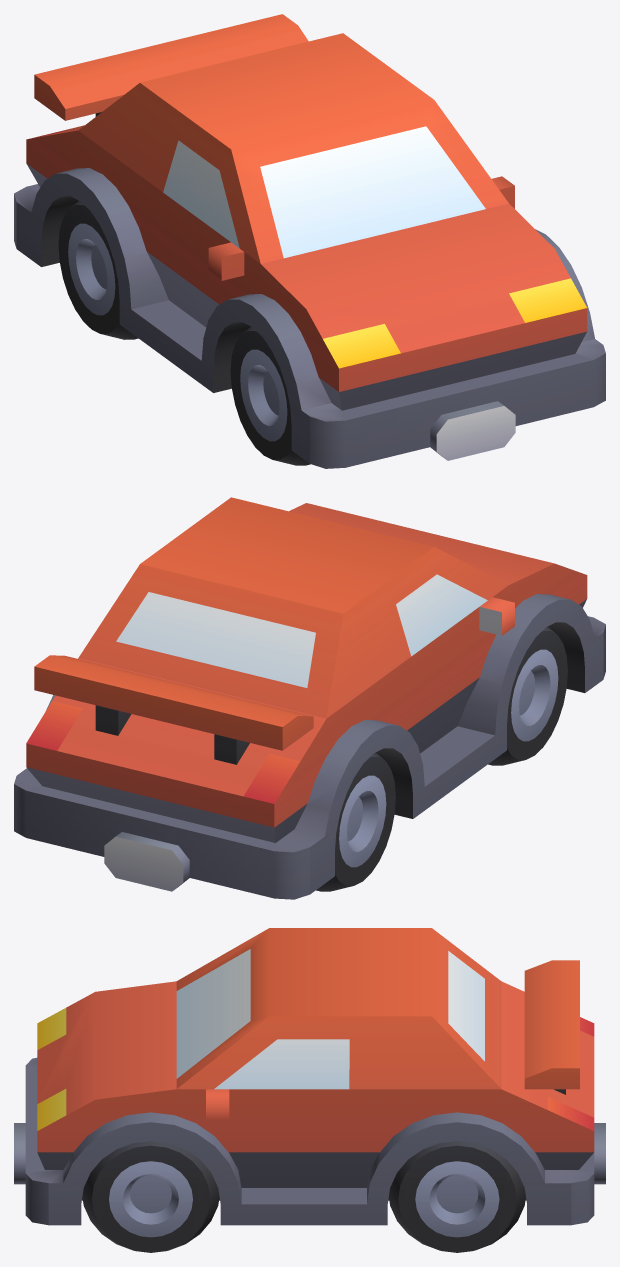
The model's file is kenney-car-sedan-sports.glb.
3 views of the same model, one above another, from view 1: azimuth 30°, elevation 25°; view 2: azimuth 150°, elevation 25°; view 3: azimuth 270°, elevation 25° (orthographic). The views are drawn at different scales.
Parts seen in each view (by area): view 1: wheel-back-right; view 2: wheel-back-right; view 3: wheel-back-right.
Part boxes in pixels (<box>): wheel-back-right: <box>14,14,605,468</box>; wheel-back-right: <box>14,497,605,899</box>; wheel-back-right: <box>14,928,605,1252</box>.
Bounding box in the file's own units: 1.3 × 1.1 × 2.55.
1 material, 1 textured.
